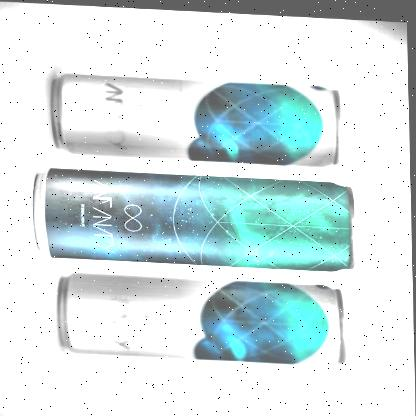Can: (27, 161, 365, 273), (52, 263, 352, 368), (51, 67, 350, 168)
